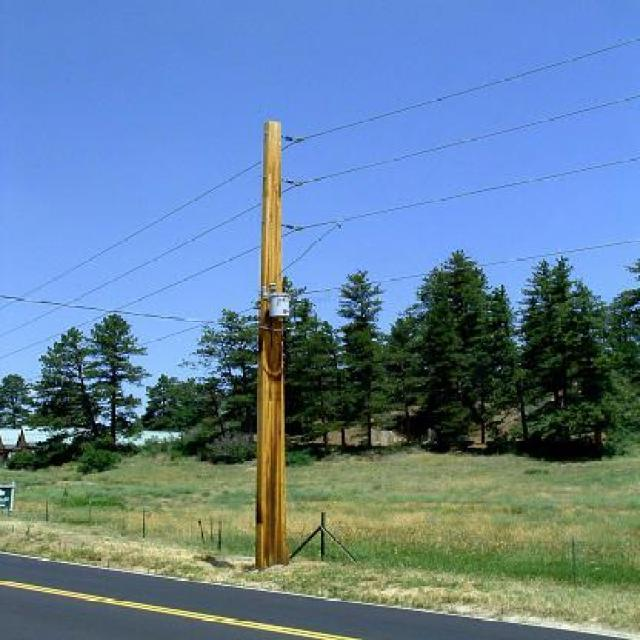light_pole: (220, 105, 331, 559)
